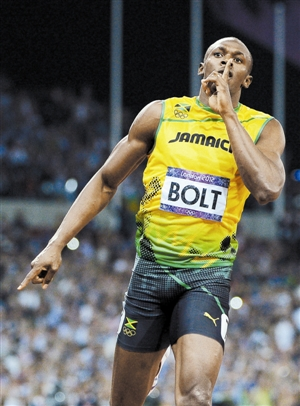face: (204, 40, 244, 94)
